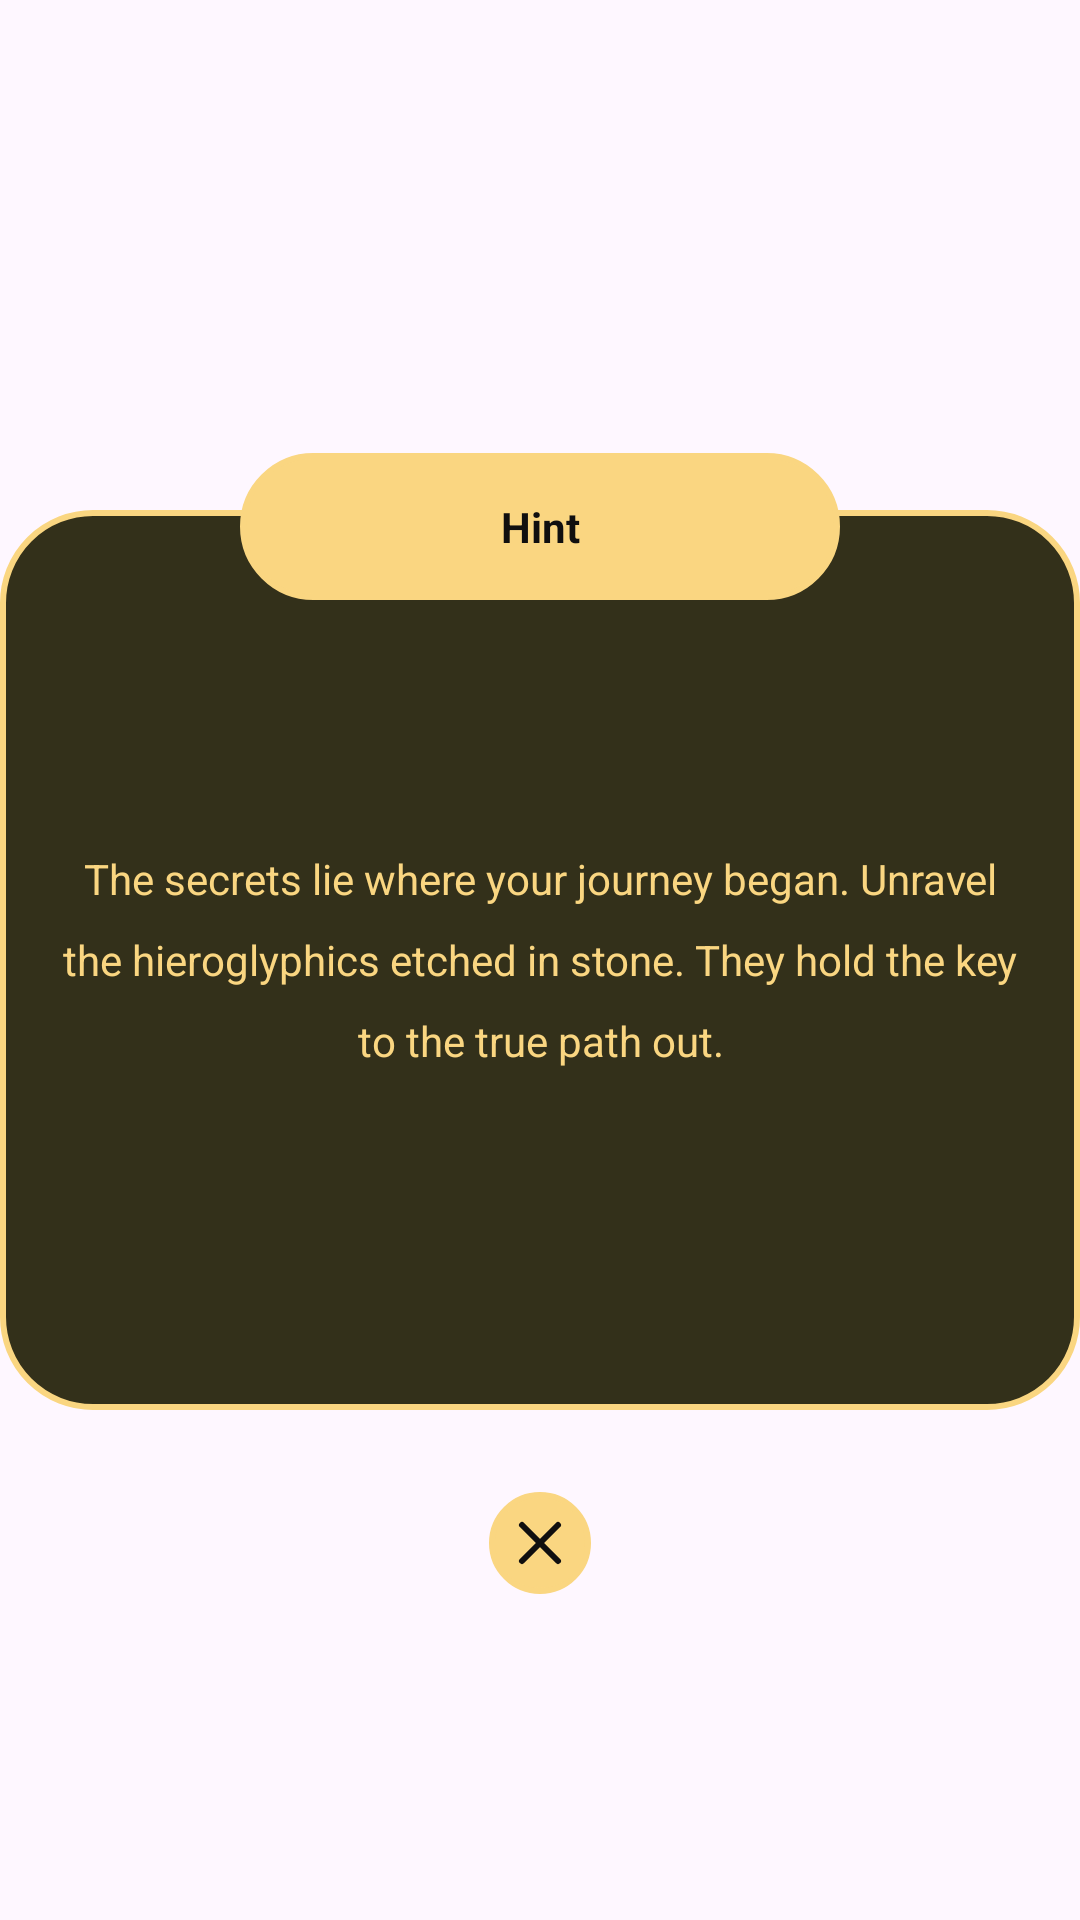

Icon click points for this 1080 × 1920 phone screenshot, format [x,y]:
close: [540,1543]
